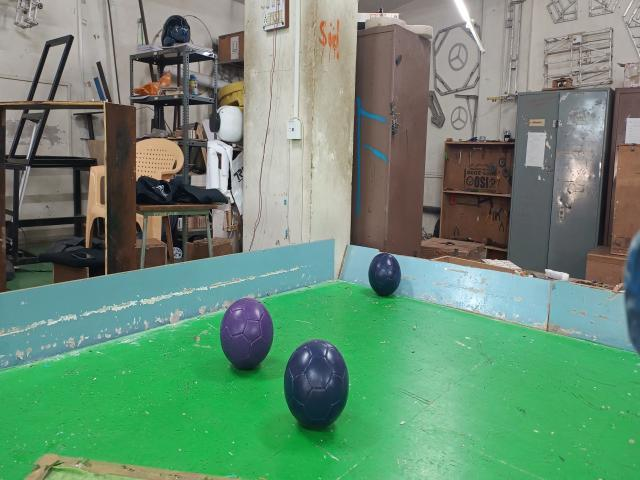jambhalya: (220, 298, 274, 370)
kaalyya: (284, 340, 349, 430), (369, 253, 401, 297)
